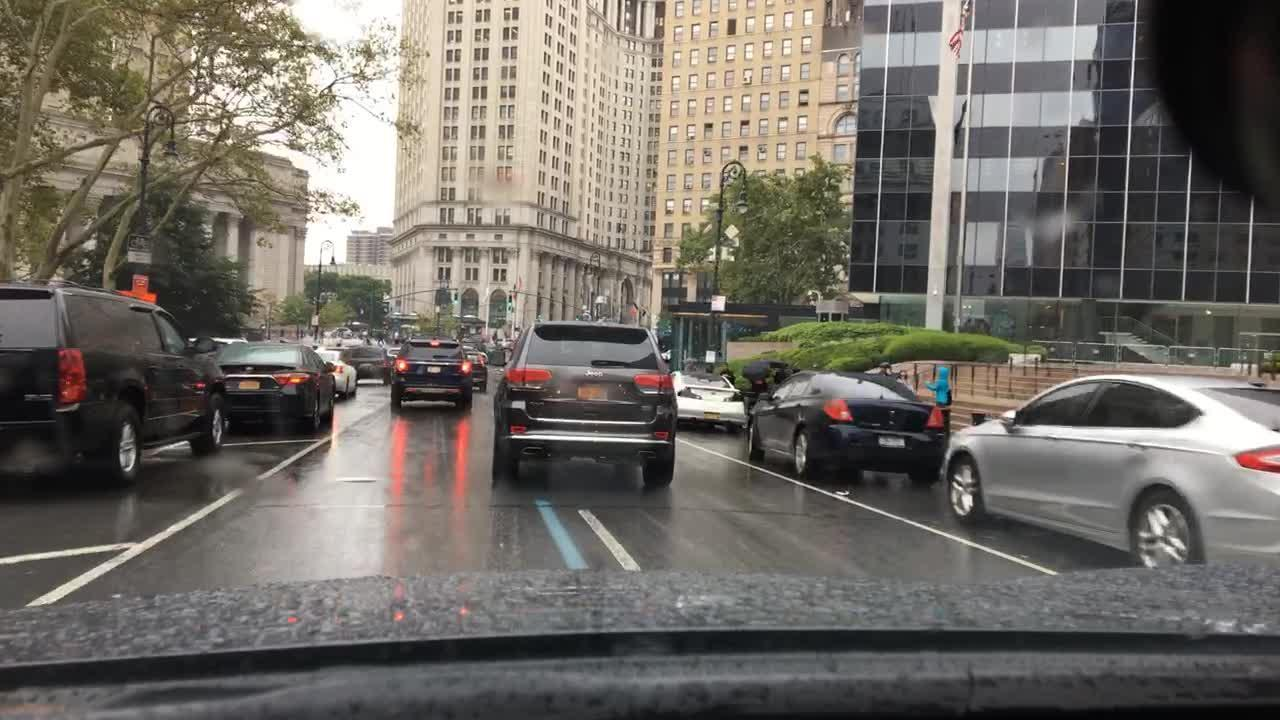jeep: (582, 368, 606, 381)
